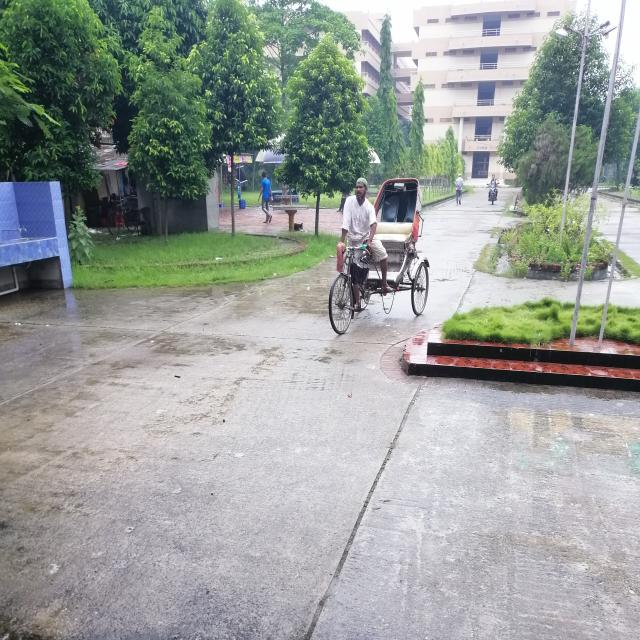Rickshaw: (295, 154, 456, 353)
